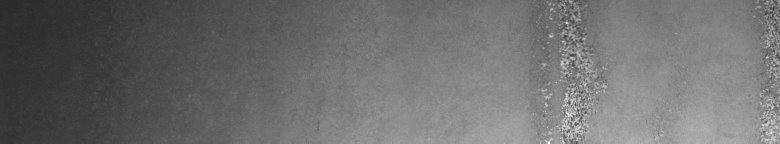hc: (534, 4, 664, 136)
